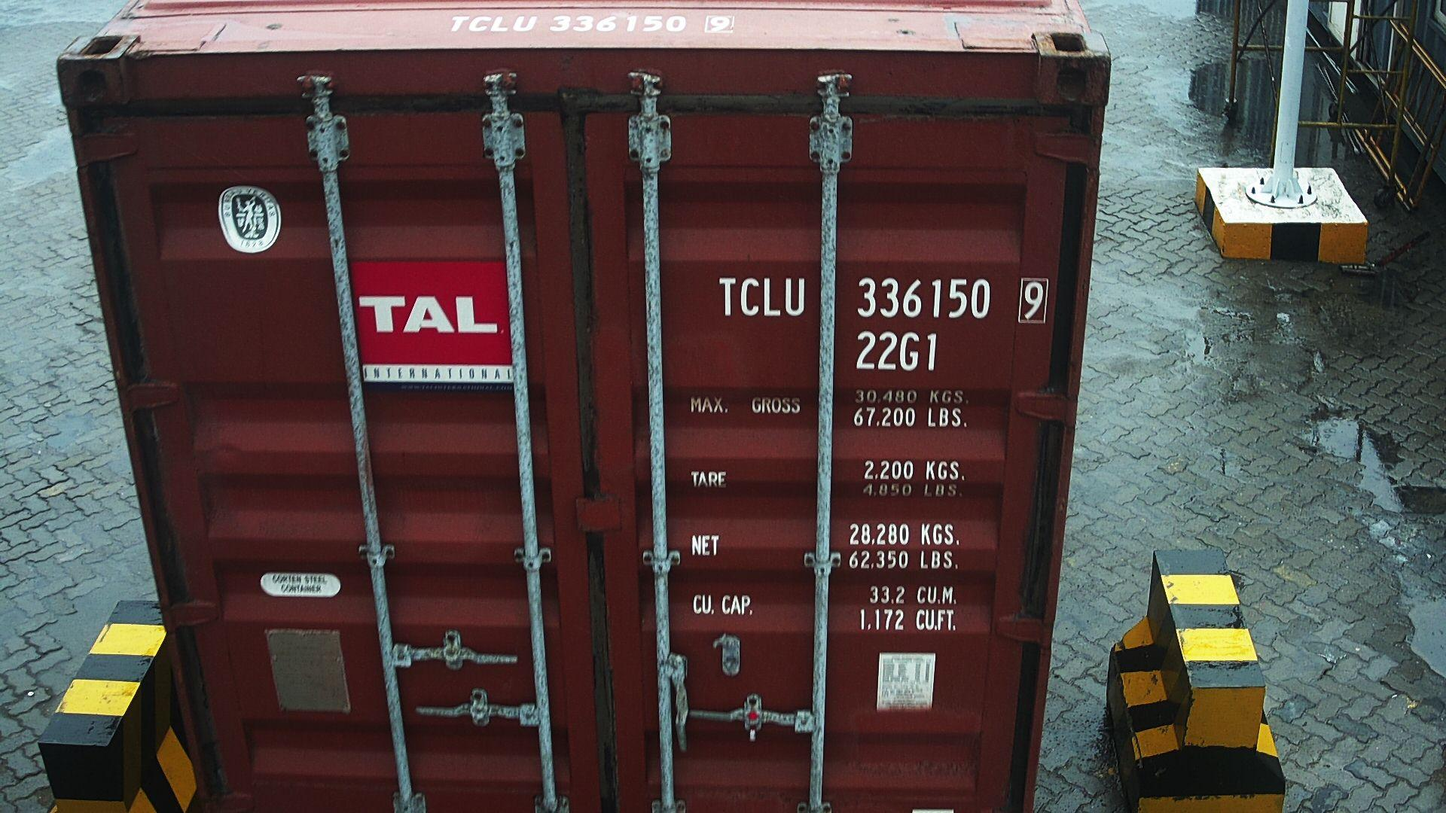container-numbers: (713, 272, 1056, 327), (441, 10, 741, 35), (850, 329, 942, 374)
